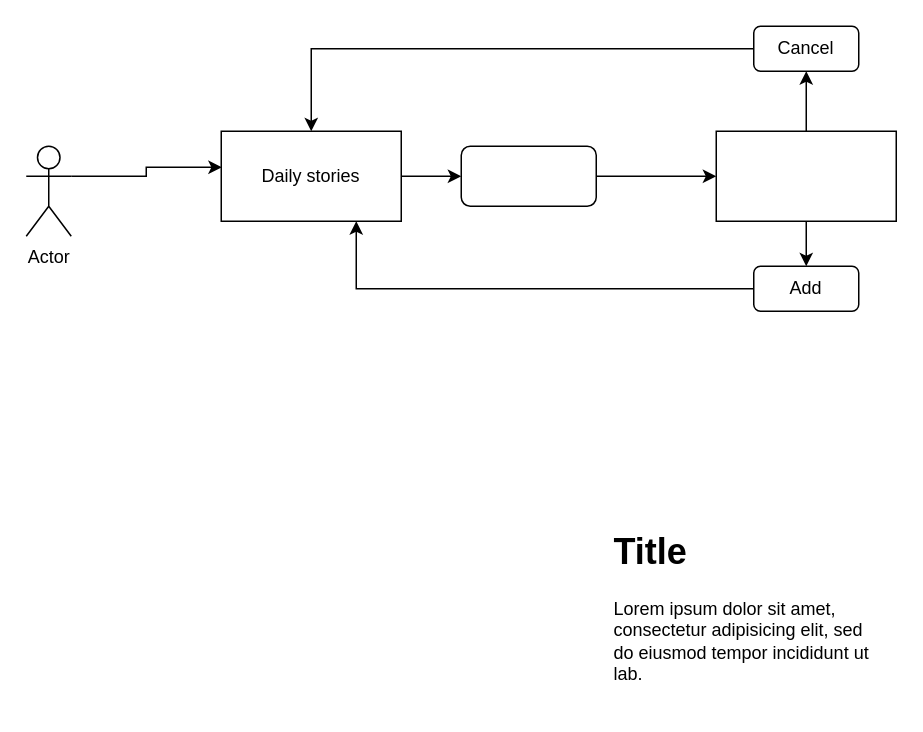
Some shapes in this 923 by 732 pixel diagram are drawn without their labels. The box of each missing label's shape, as (x1, y1, x2, y2) in pixels:
Add story: (460, 145, 596, 206)
Create story: (715, 130, 896, 221)
